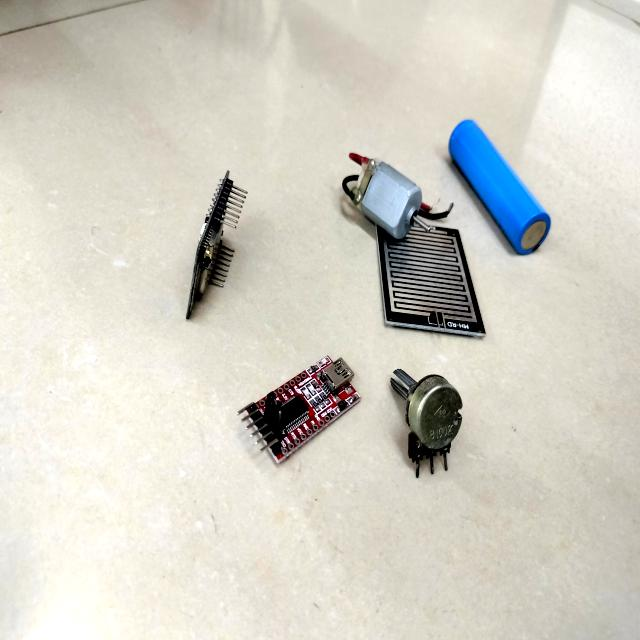3-3-Volt-Battery: (445, 113, 553, 261)
DC-Motor: (347, 156, 436, 244)
ESP32-CAM: (181, 164, 249, 330)
FT-232-USB-Serial-Module: (235, 348, 364, 469)
Raindrops-Module: (372, 208, 491, 344)
Taper-Potentiometer: (386, 359, 466, 484)
